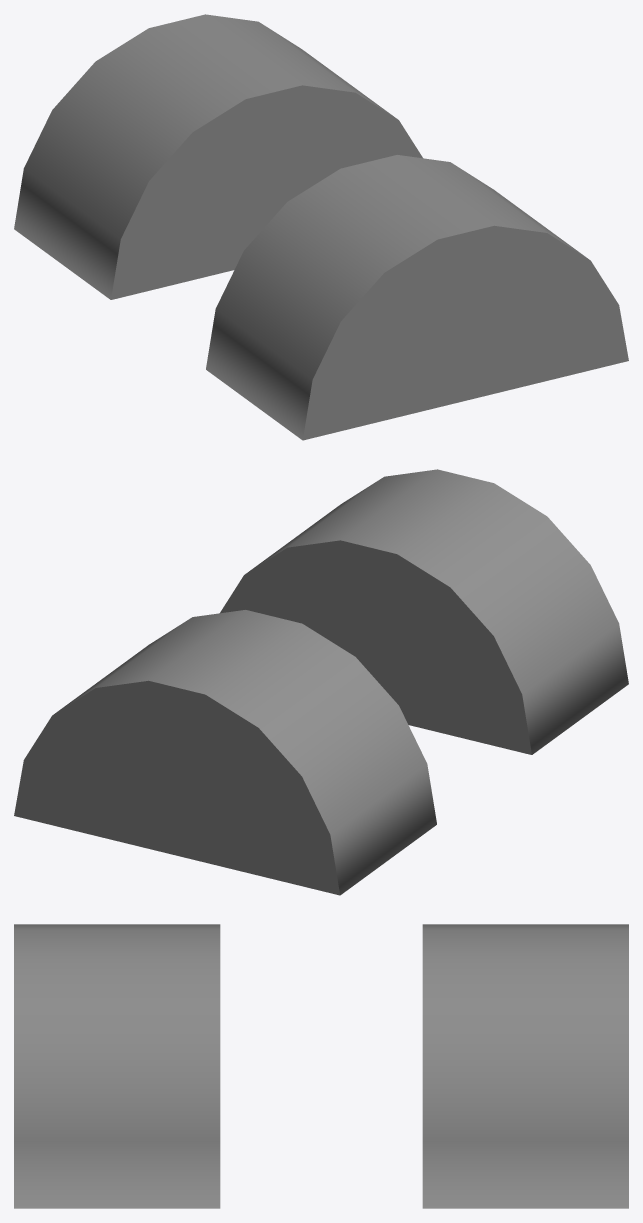
The model's file is wapenSchanier.obj.
3 views of the same model, one above another, from view 1: azimuth 30°, elevation 25°; view 2: azimuth 150°, elevation 25°; view 3: azimuth 270°, elevation 25° (orthographic). The views are drawn at different scales.
Parts seen in each view (by area): view 1: wapenSchanier; view 2: wapenSchanier; view 3: wapenSchanier.
Boxes of the visible parts, <box> form: wapenSchanier: <box>14,14,628,440</box>; wapenSchanier: <box>14,469,628,895</box>; wapenSchanier: <box>14,924,628,1208</box>.
Size of the model in its own units: 0.4034 by 0.1986 by 0.6185.
Materials: 1 (1 with a texture image).
